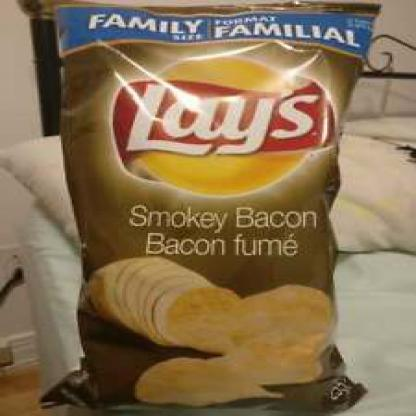potatochip: (43, 0, 384, 415)
